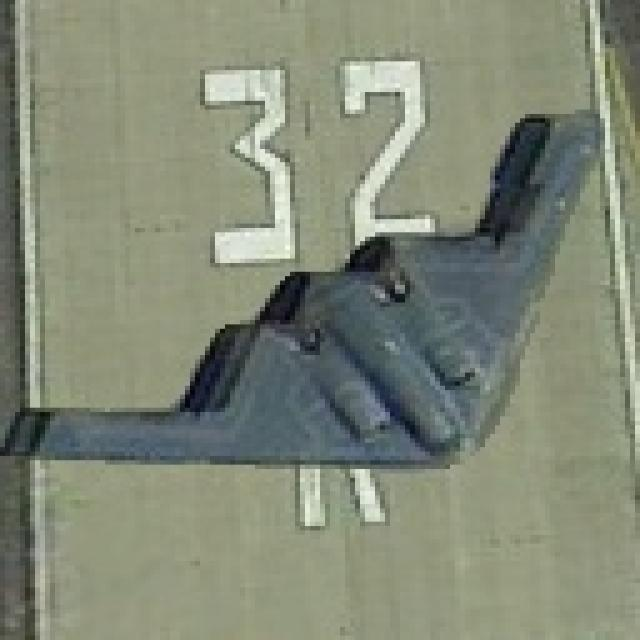B-2_TopDown: (0, 96, 605, 526)
